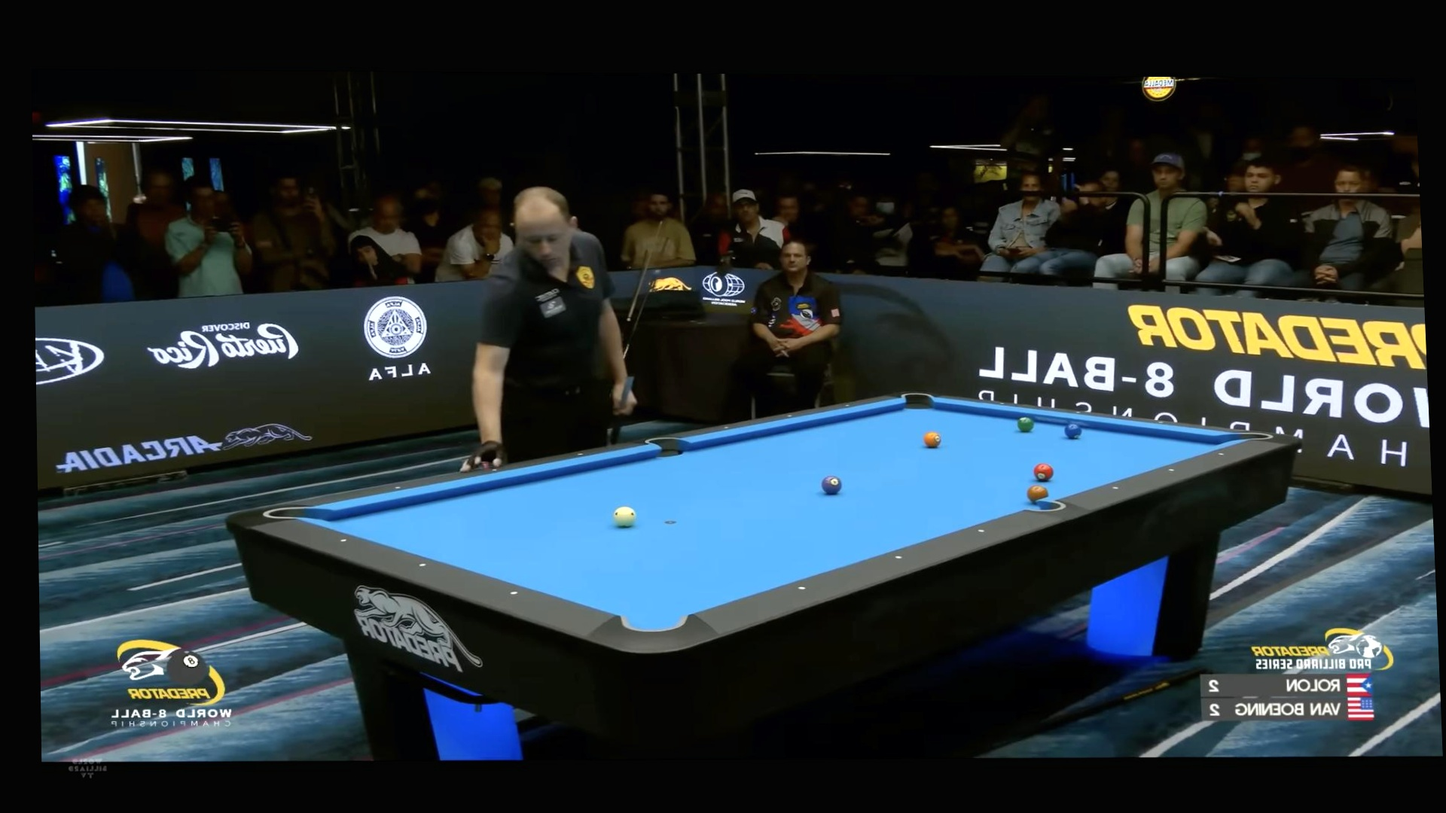Cue: (613, 505, 637, 528)
Solid: (892, 551, 905, 563), (795, 583, 808, 594), (975, 525, 988, 536), (1109, 483, 1120, 492), (1216, 450, 1227, 459), (418, 561, 428, 570), (338, 536, 348, 545), (393, 483, 403, 492), (489, 464, 499, 473), (575, 450, 585, 459), (1167, 466, 1177, 475), (510, 588, 519, 597), (1074, 408, 1082, 416), (1157, 419, 1165, 426), (998, 400, 1006, 407), (723, 425, 729, 430), (787, 413, 793, 418), (845, 403, 851, 408)
Striped: (821, 475, 842, 495), (1026, 484, 1048, 503), (1033, 462, 1054, 481), (923, 431, 942, 448), (1064, 423, 1082, 439), (1017, 416, 1034, 432)
